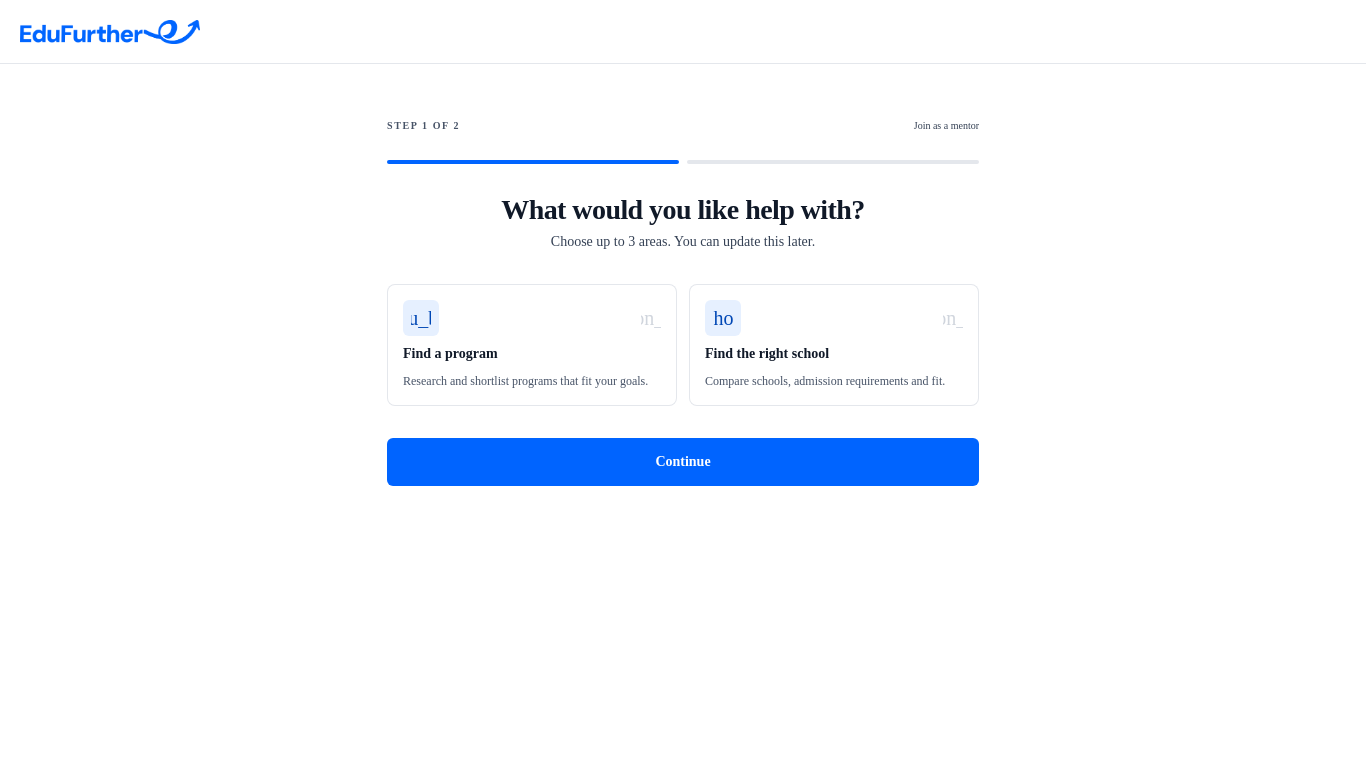
Test: OnboardingScreen › marks a missing answer only once Continue is pressed, then lets it go
Expected: the text "Pick at least one area." is not shown
Click the button "Continue": x=683, y=462 387,438 -> 979,486
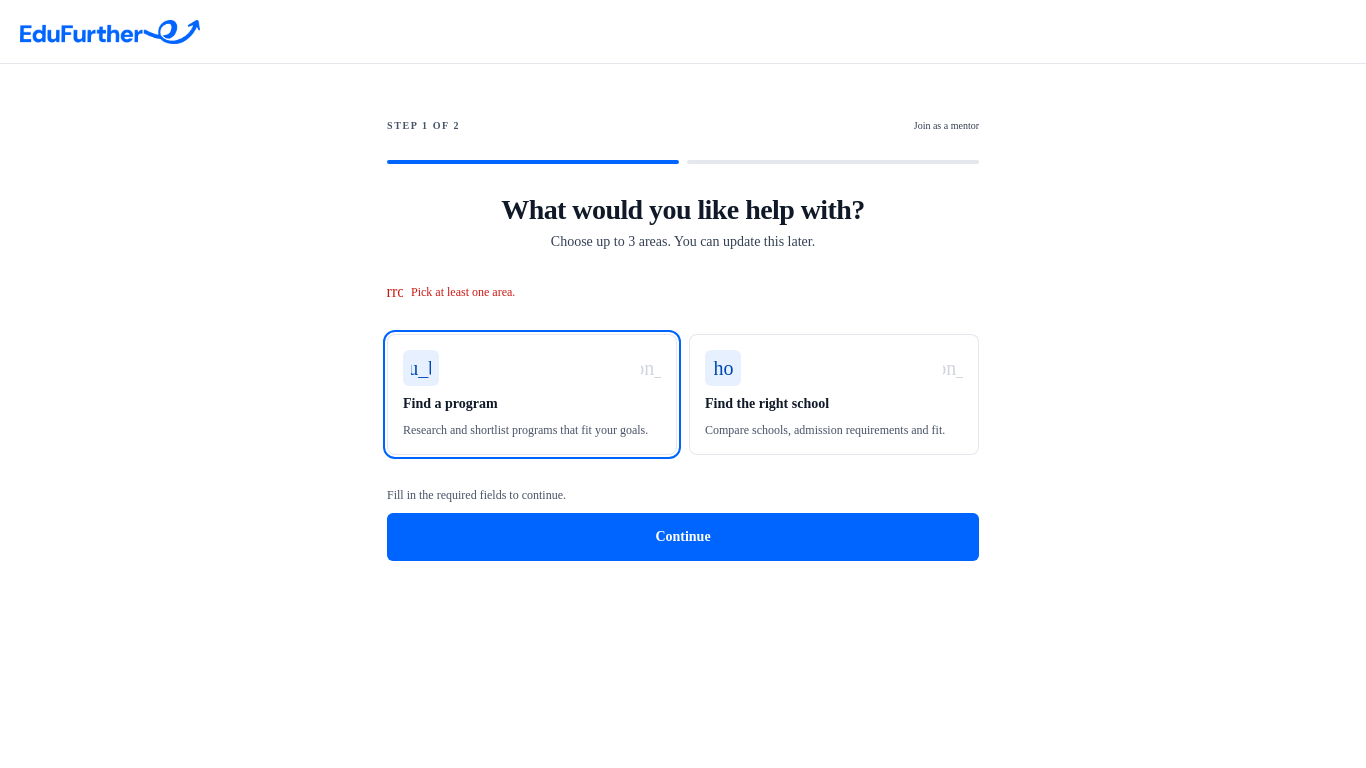
Expected: the text "Fill in the required fields to continue." is shown, 387,488 -> 566,502
Expected: the message shows "Pick at least one area.", 411,285 -> 515,299
Click the button "Find a program": x=421, y=368 387,334 -> 677,455
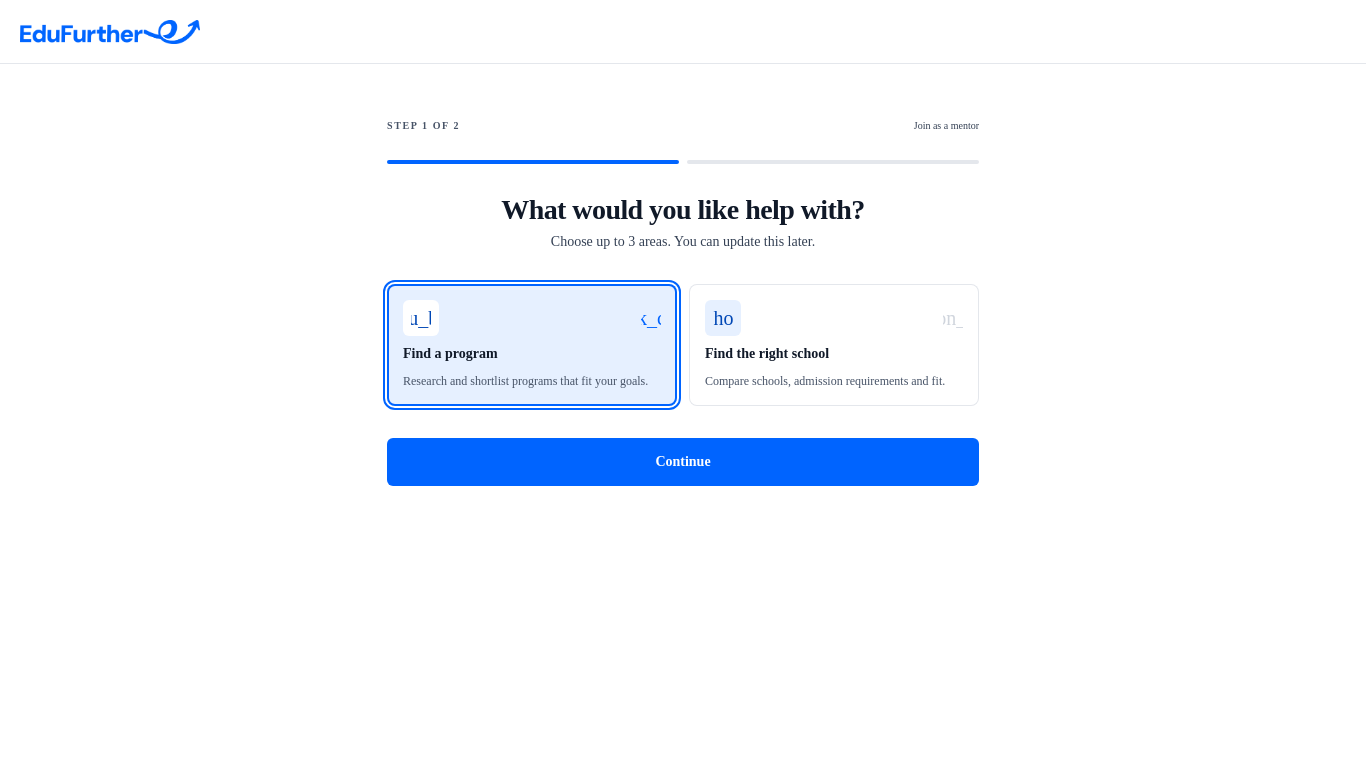
Expected: the text "Pick at least one area." is gone
Expected: the text "Fill in the required fields to continue." is gone
